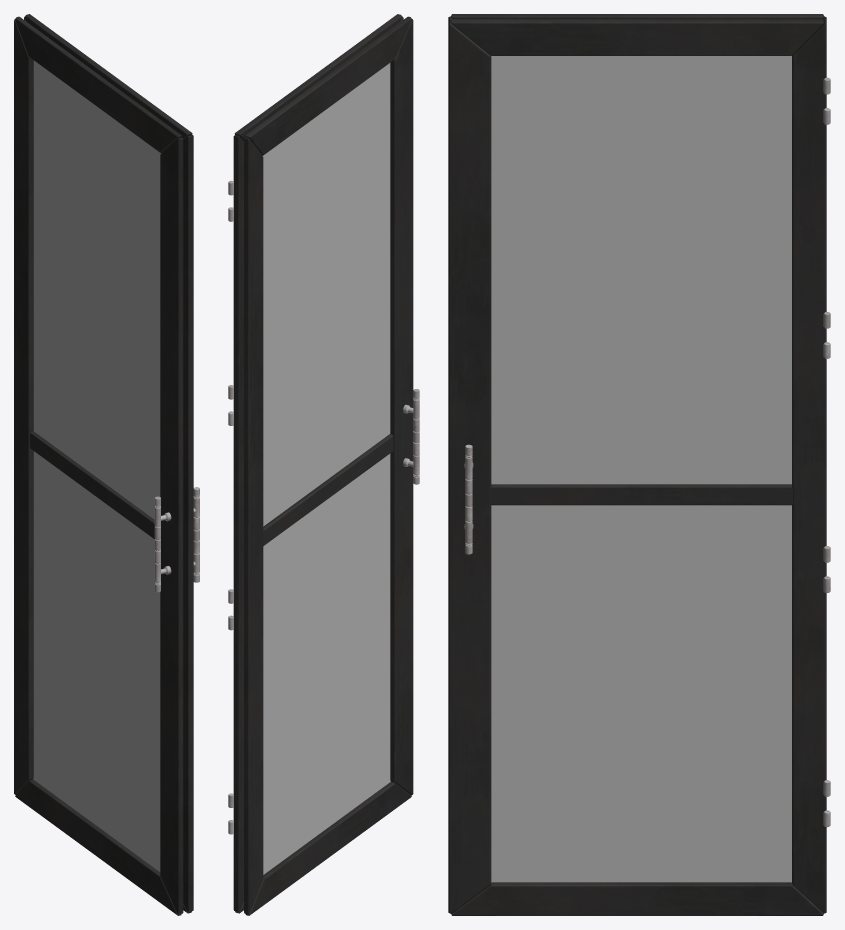
Rendered from SM_Wall_MainDoor_01a.fbx.
3 views of the same model, side by side, from view 1: azimuth 30°, elevation 25°; view 2: azimuth 150°, elevation 25°; view 3: azimuth 270°, elevation 25° (orthographic). The views are drawn at different scales.
Parts seen in each view (by area): view 1: SM_Wall_MainDoor_01a_LOD0; view 2: SM_Wall_MainDoor_01a_LOD0; view 3: SM_Wall_MainDoor_01a_LOD0.
Boxes of the visible parts, left/top/right/bottom form: SM_Wall_MainDoor_01a_LOD0: left=14, top=14, right=199, bottom=915; SM_Wall_MainDoor_01a_LOD0: left=228, top=14, right=419, bottom=915; SM_Wall_MainDoor_01a_LOD0: left=448, top=14, right=830, bottom=915.
Bounding box in the file's own units: 15.07 × 97.98 × 253.
